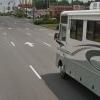Bus: (53, 4, 100, 100)
